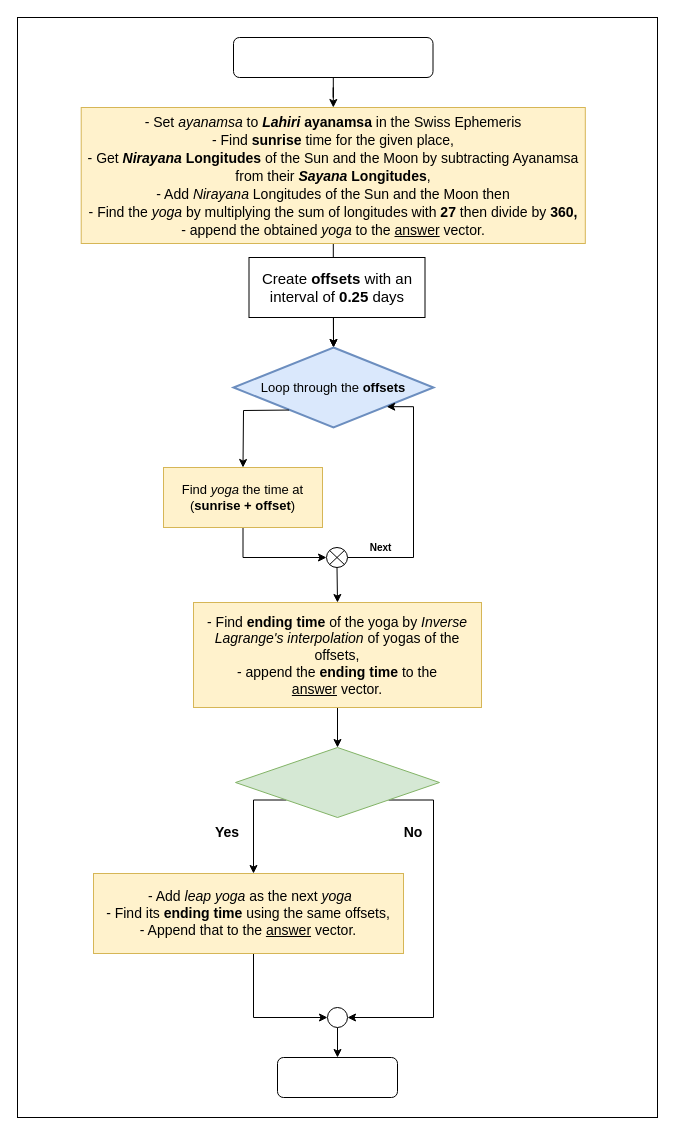
Image size: 675x1135. Some labels were removed from this diagram. The centre of each missing label's shape, as x and y in pixels:
"If yoga is skipped" belongs at [337,782].
"Return answer" belongs at [337,1077].
"yoga(jd,place)" belongs at [332,57].
